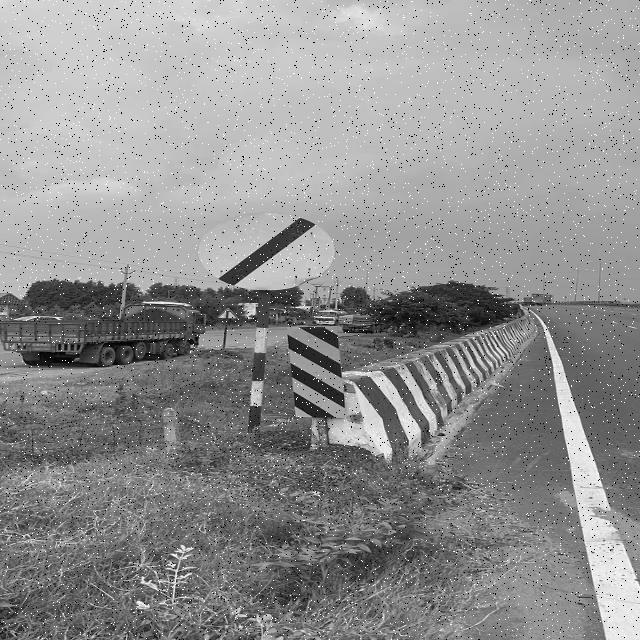Restriction_end: (191, 199, 338, 295)
object_hazzard_to_left: (291, 319, 358, 425)
